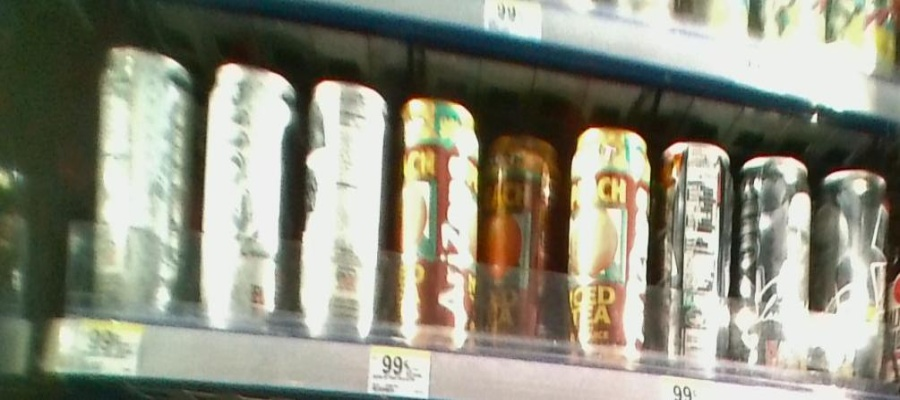bottle: (86, 39, 200, 326), (200, 60, 299, 338), (304, 63, 389, 343), (393, 78, 480, 349), (563, 114, 652, 368), (657, 127, 741, 379), (486, 114, 561, 361), (816, 147, 891, 386), (741, 139, 814, 379)
